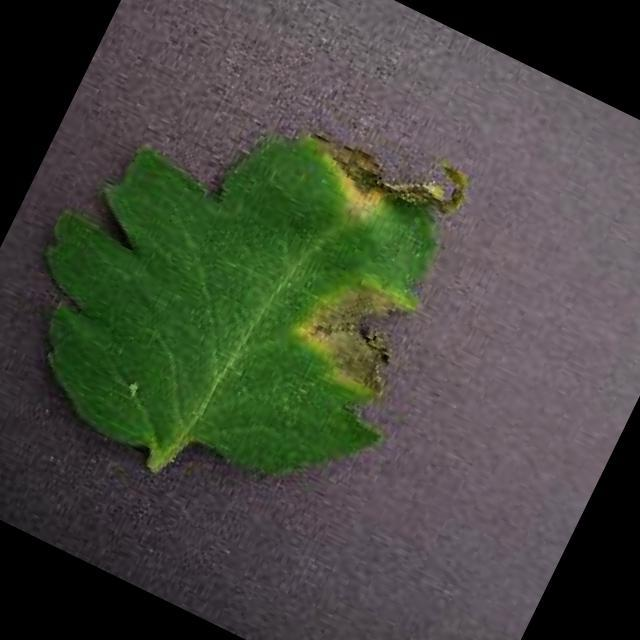Tomato late blight leaf: (0, 2, 508, 543)
